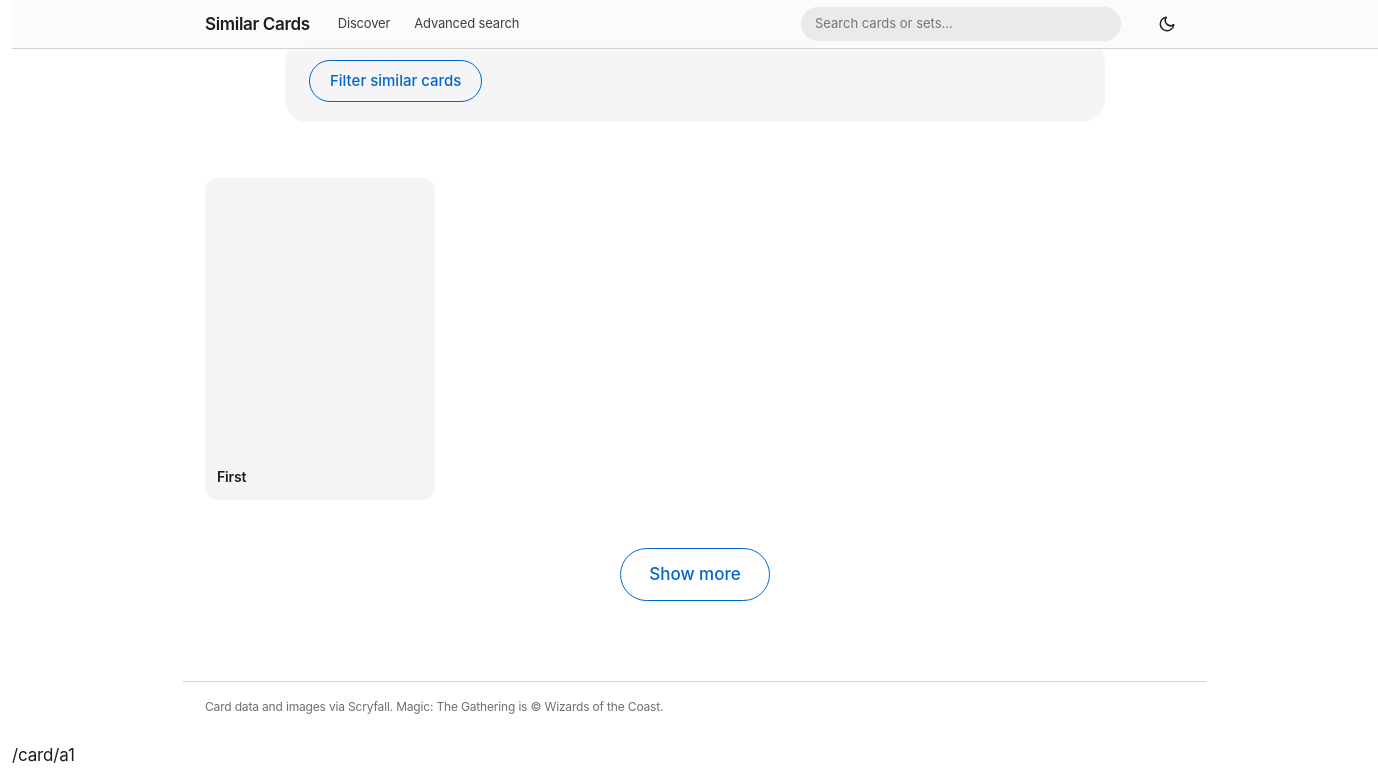
Test: CardPage › loads more similar cards with Show more until there are none left
This screenshot has width=1378, height=768.
(page scrolled)
Expected: the text "First" is shown, [217, 468, 246, 485]
Click the button "Show more". click: (695, 574)
box: [620, 548, 770, 601]
(page scrolled)
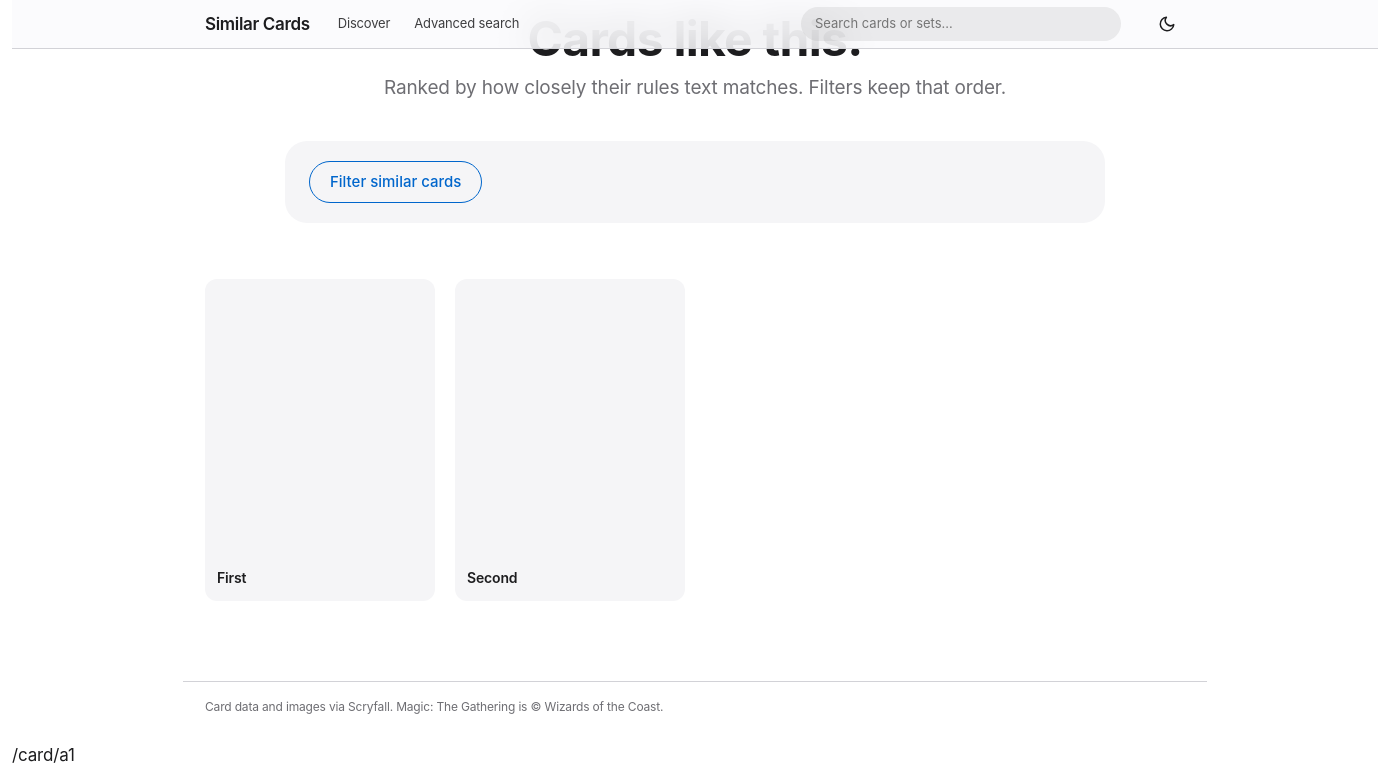
Expected: the text "First" is shown, [217, 569, 246, 586]
Expected: the text "Second" is shown, [467, 569, 517, 586]
Expected: the button "Show more" is gone
